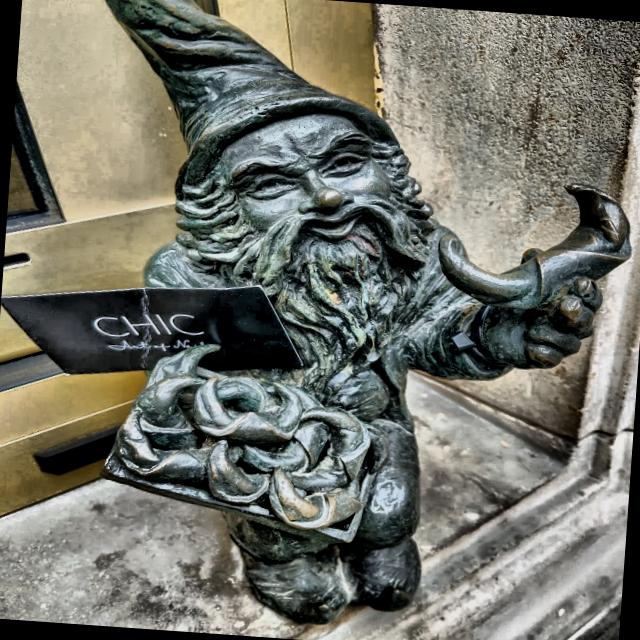Rogalik: (103, 0, 633, 625)
